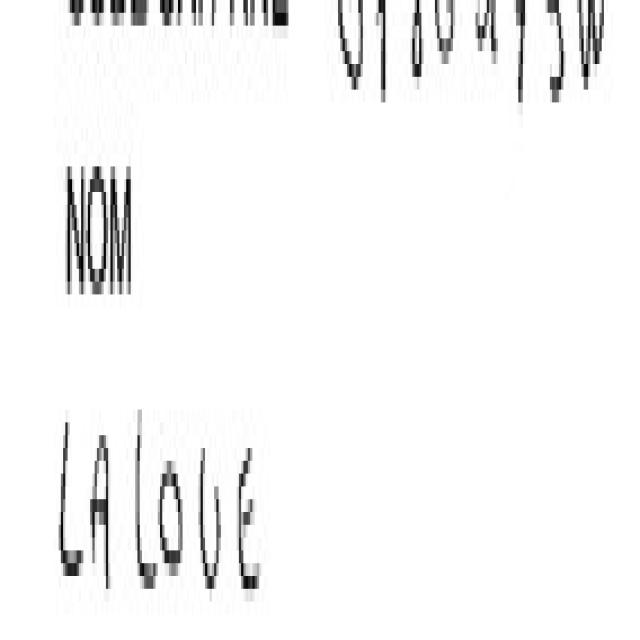A: (87, 400, 121, 625)
E: (236, 398, 269, 615)
L: (123, 368, 163, 618), (54, 381, 86, 605)
O: (159, 385, 192, 634)
U: (194, 398, 232, 621)
